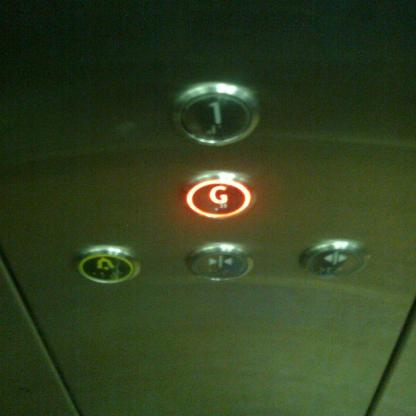1: (169, 81, 266, 148)
G: (178, 170, 257, 222)
alarm: (75, 245, 142, 286)
close: (186, 242, 254, 283)
open: (300, 239, 368, 279)
